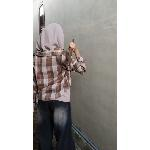Kapak: (62, 35, 78, 64)
